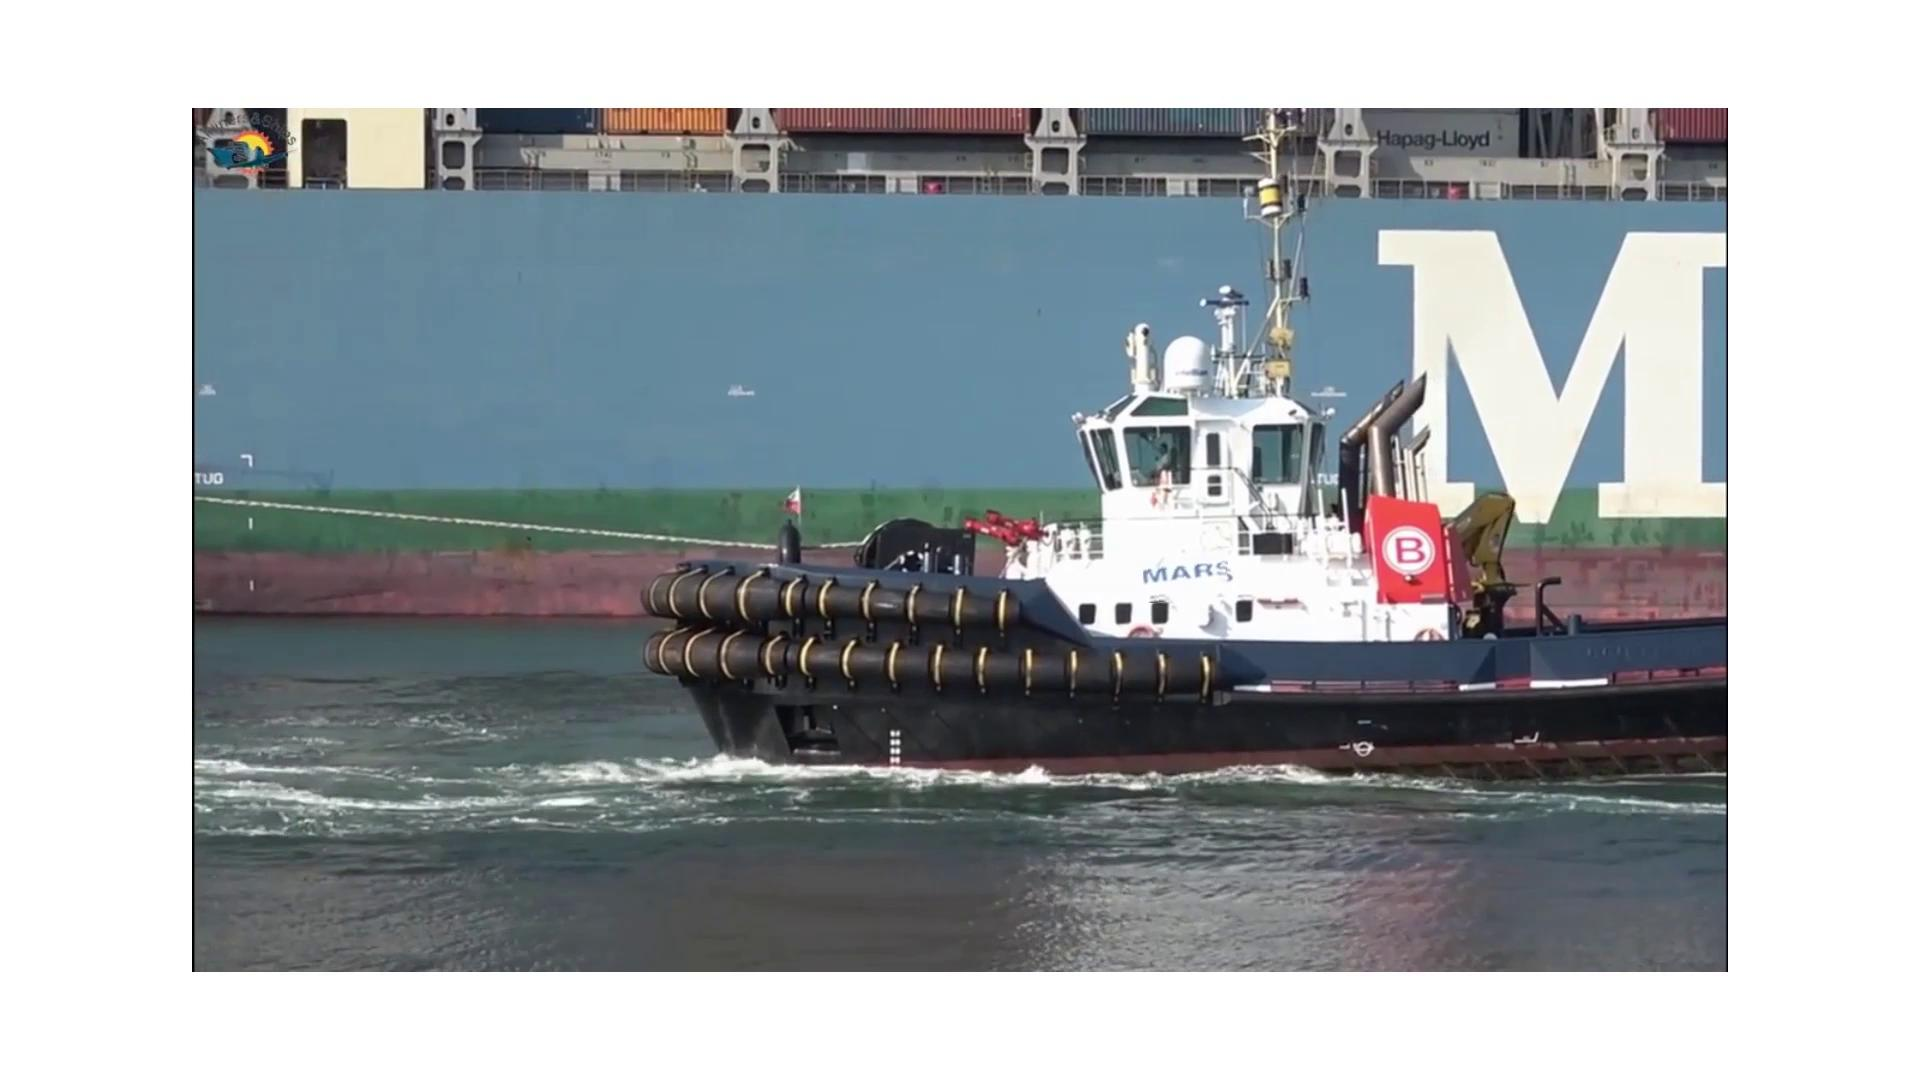OCR: (1143, 546, 1229, 604)
